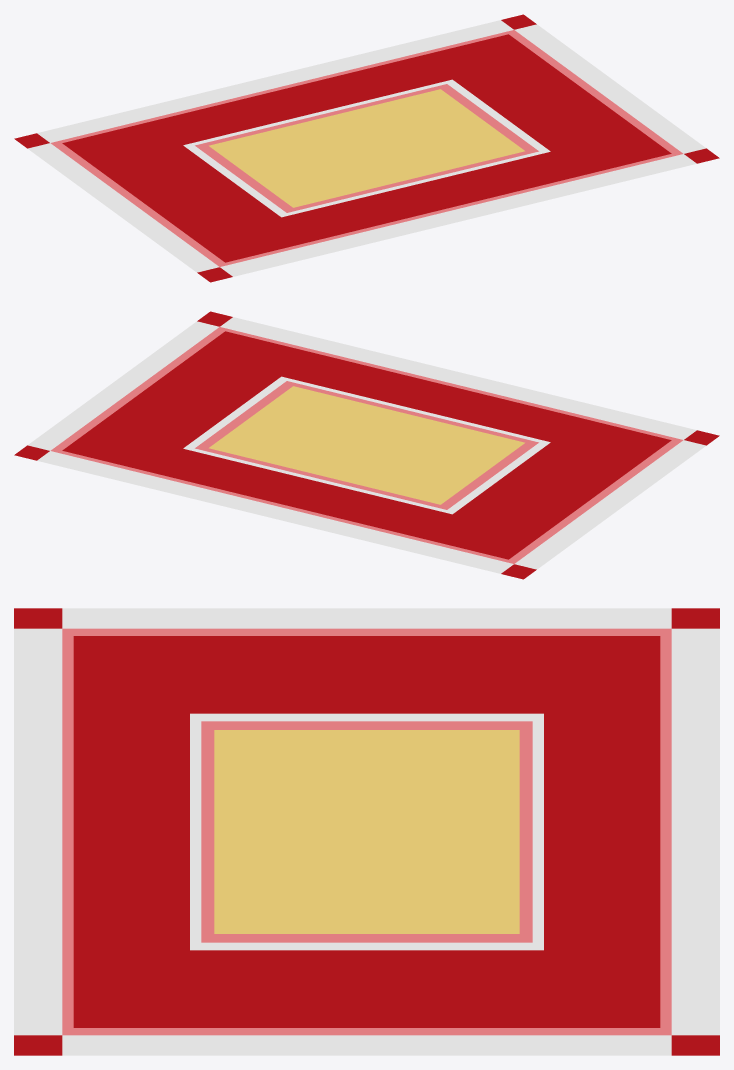
The model's file is Capet1-1.fbx.
The picture shows the model from 3 angles, top to bottom: view 1: azimuth 30°, elevation 25°; view 2: azimuth 150°, elevation 25°; view 3: azimuth 270°, elevation 25°; orthographic projection. The views are drawn at different scales.
Parts seen in each view (by area): view 1: Capet1-1; view 2: Capet1-1; view 3: Capet1-1.
Part boxes in pixels (x1,y1,x2,y2): Capet1-1: [14, 14, 719, 282]; Capet1-1: [14, 311, 719, 579]; Capet1-1: [14, 608, 719, 1055].
Size of the model in its own units: 0.9569 by 3.91e-17 by 0.6387.
